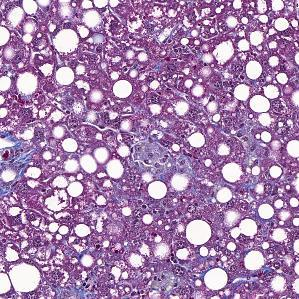fibrosis: (131, 131, 184, 173)
